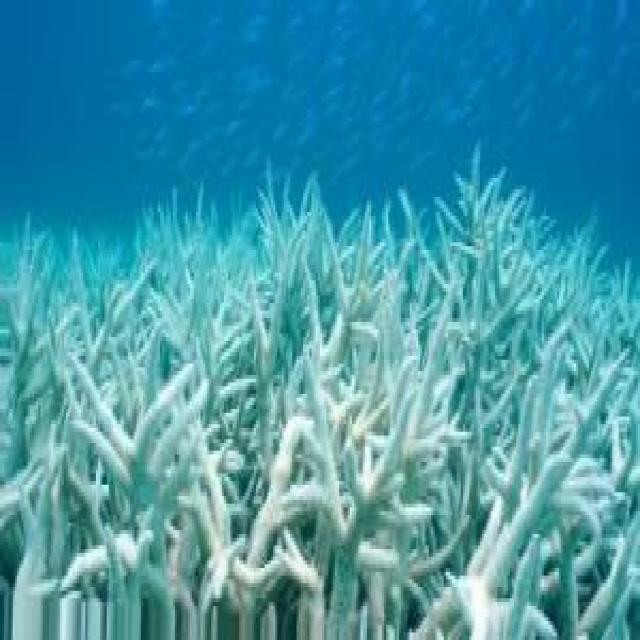bleached coral: (403, 451, 495, 591), (533, 466, 606, 640), (90, 314, 196, 420), (250, 417, 322, 568), (105, 473, 171, 591), (486, 318, 550, 428), (284, 261, 341, 364), (352, 356, 407, 454), (211, 348, 265, 436), (410, 288, 454, 367), (30, 417, 73, 470)
healthy coral: (137, 208, 260, 273), (527, 220, 623, 292), (15, 235, 83, 326), (348, 182, 437, 246)
